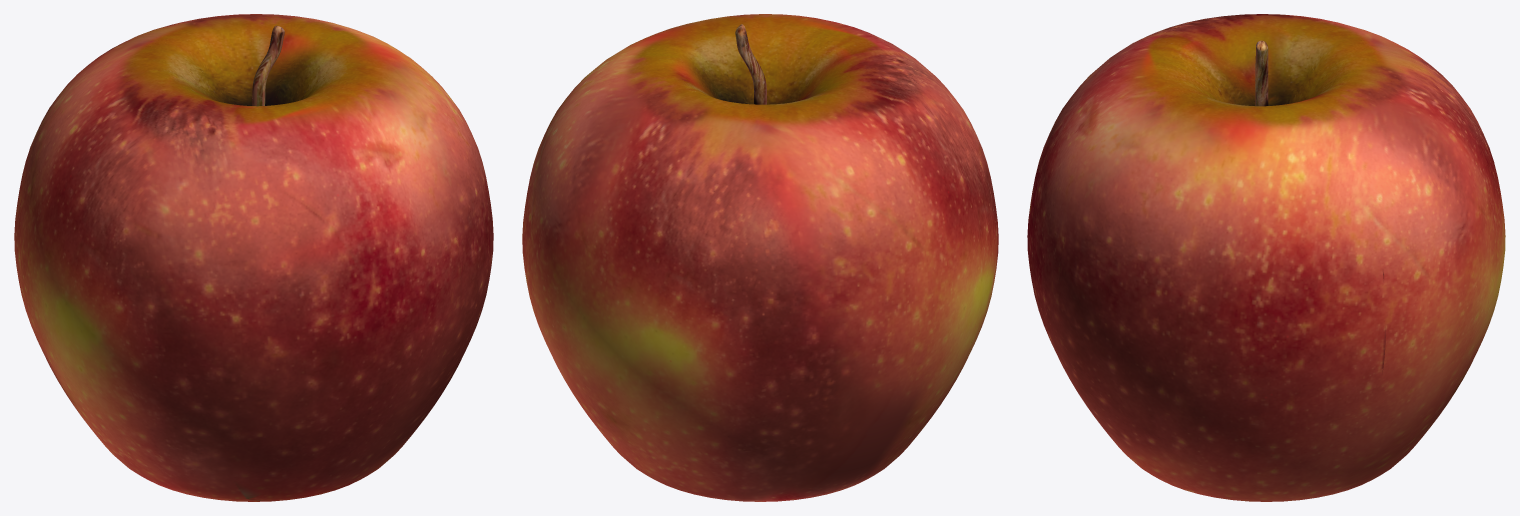
File: apple.fbx
3 renders of one model, left to right at view 1: azimuth 30°, elevation 25°; view 2: azimuth 150°, elevation 25°; view 3: azimuth 270°, elevation 25°, orthographic.
Parts seen in each view (by area): view 1: 구체; view 2: 구체; view 3: 구체.
Boxes of the visible parts, x1,y1,x2,y2 form: 구체: (14, 14, 493, 501); 구체: (522, 14, 998, 501); 구체: (1027, 14, 1505, 501).
Bounding box in the file's own units: 26.89 × 26.16 × 26.89.
Materials: 1 (1 with a texture image).
